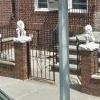Statue: (70, 18, 100, 69)
